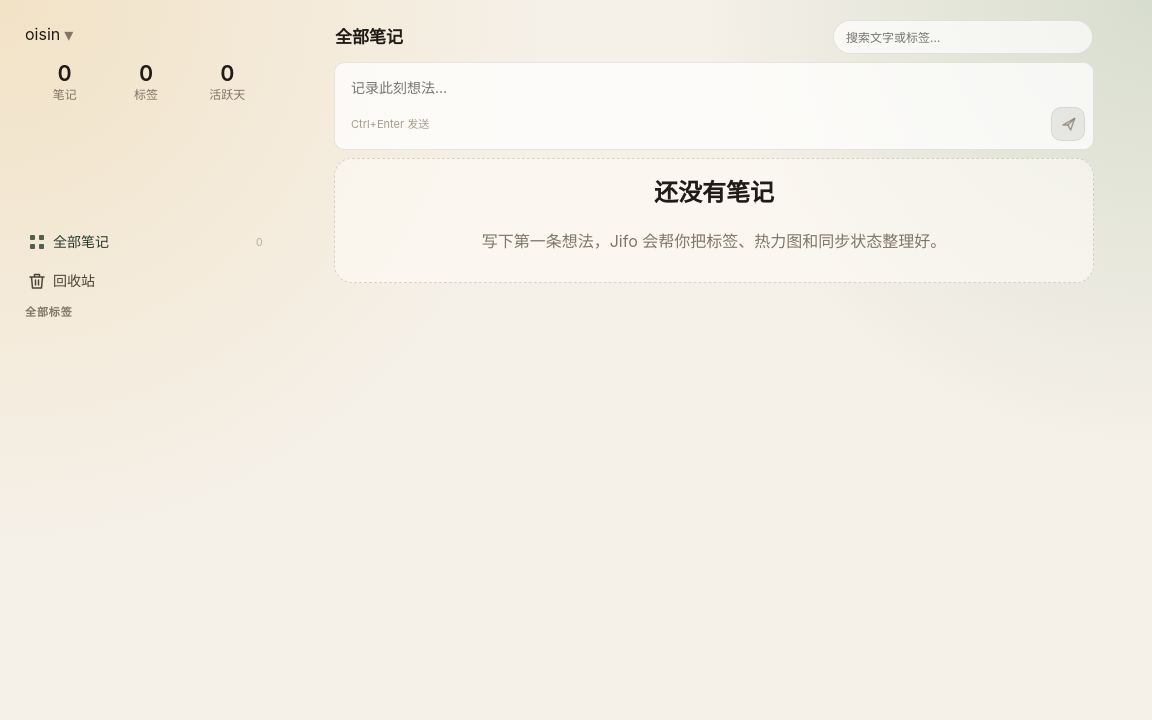
NotesPage › 从用户名菜单打开设置弹窗并加载密钥
The image size is (1152, 720).
Click the button with aria-label "oisin 设置菜单": (49, 34) [25,24,73,45]
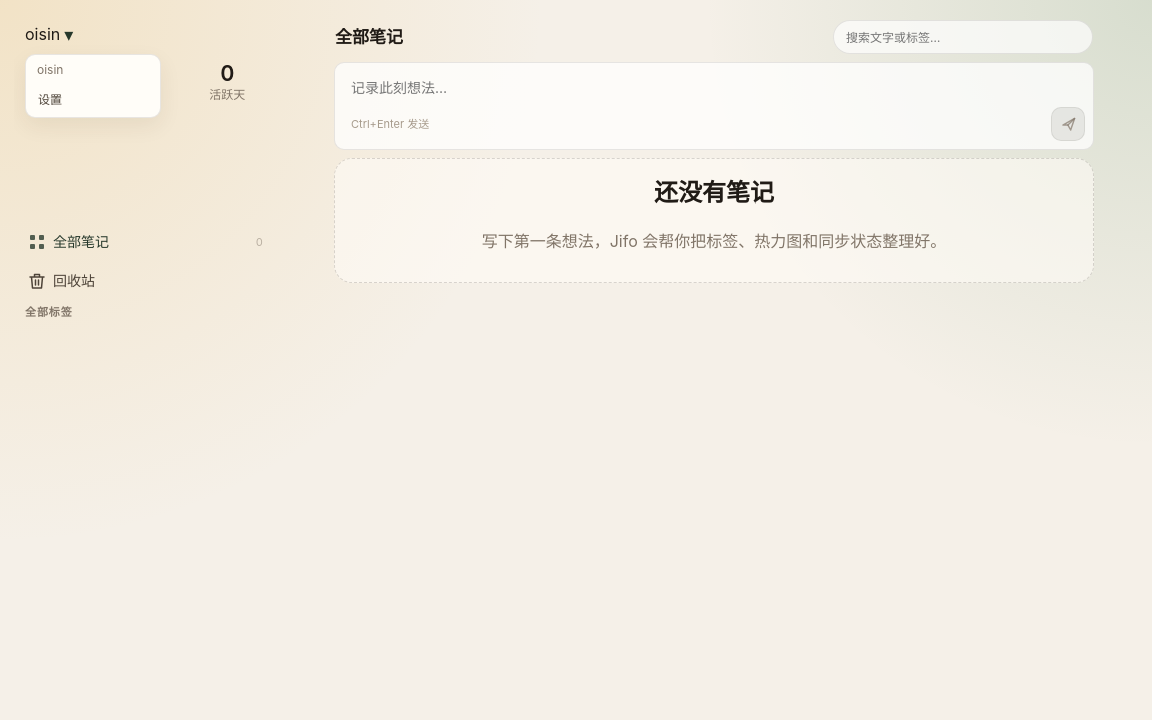
Click the button "设置": (93, 98) [30,84,156,113]
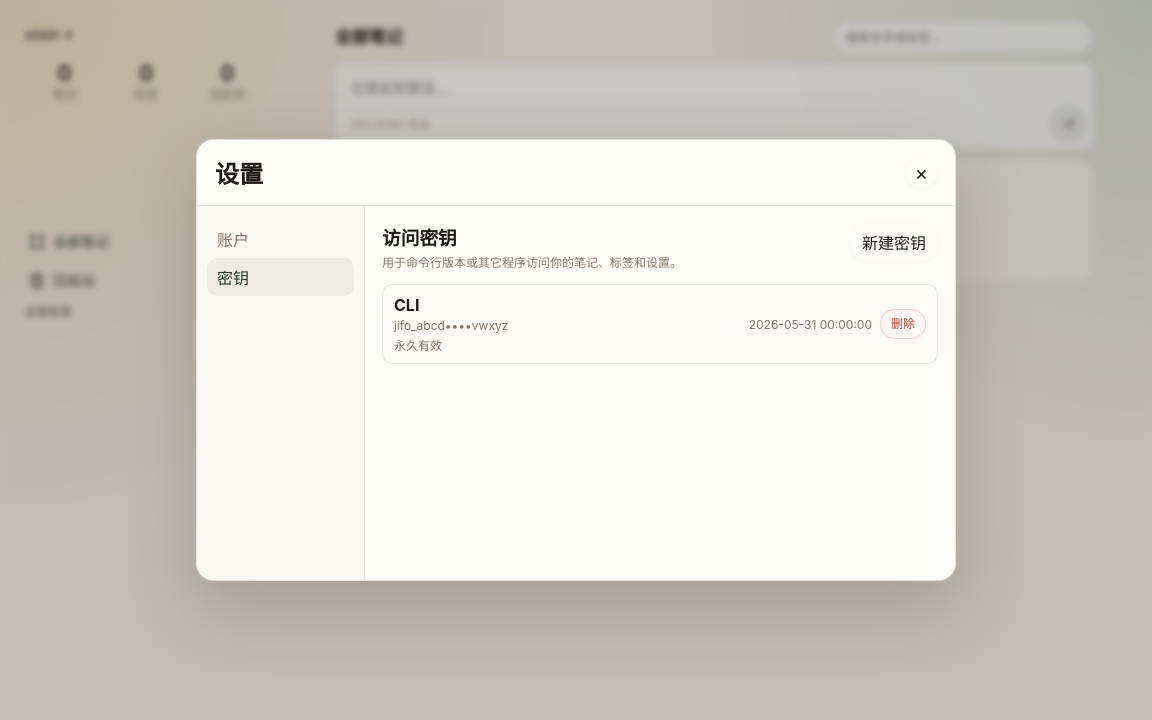
Expected: the dialog "设置" is shown
Expected: the text "jifo_abcd••••vwxyz" is shown, [394,318,508,333]
